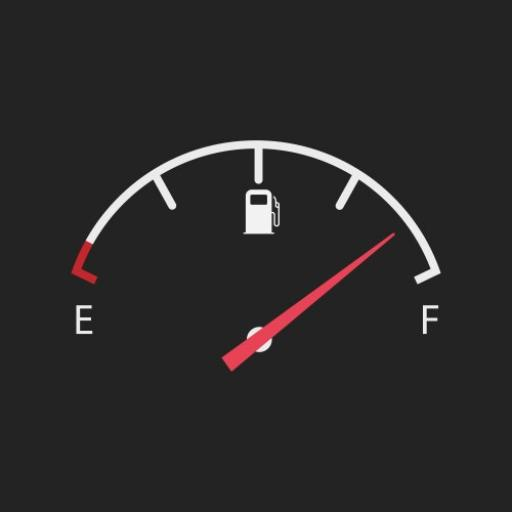empty: (69, 298, 97, 340)
fuel_icon: (237, 187, 283, 240)
full: (416, 302, 440, 342)
guage_area: (57, 137, 449, 381)
needle_center: (238, 316, 276, 359)
needle_tip: (367, 230, 403, 254)
